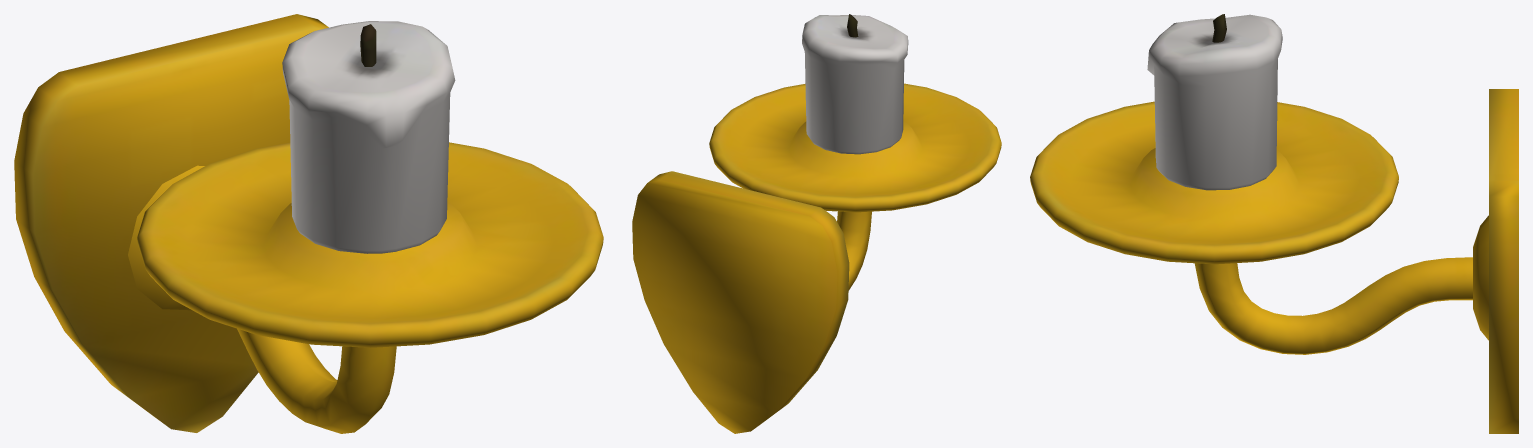
3 renders of one model, left to right at view 1: azimuth 30°, elevation 25°; view 2: azimuth 150°, elevation 25°; view 3: azimuth 270°, elevation 25°, orthographic. The views are drawn at different scales.
Size of the model in its own units: 3.22 by 4.04 by 4.27.
Materials: 1 (1 with a texture image).
